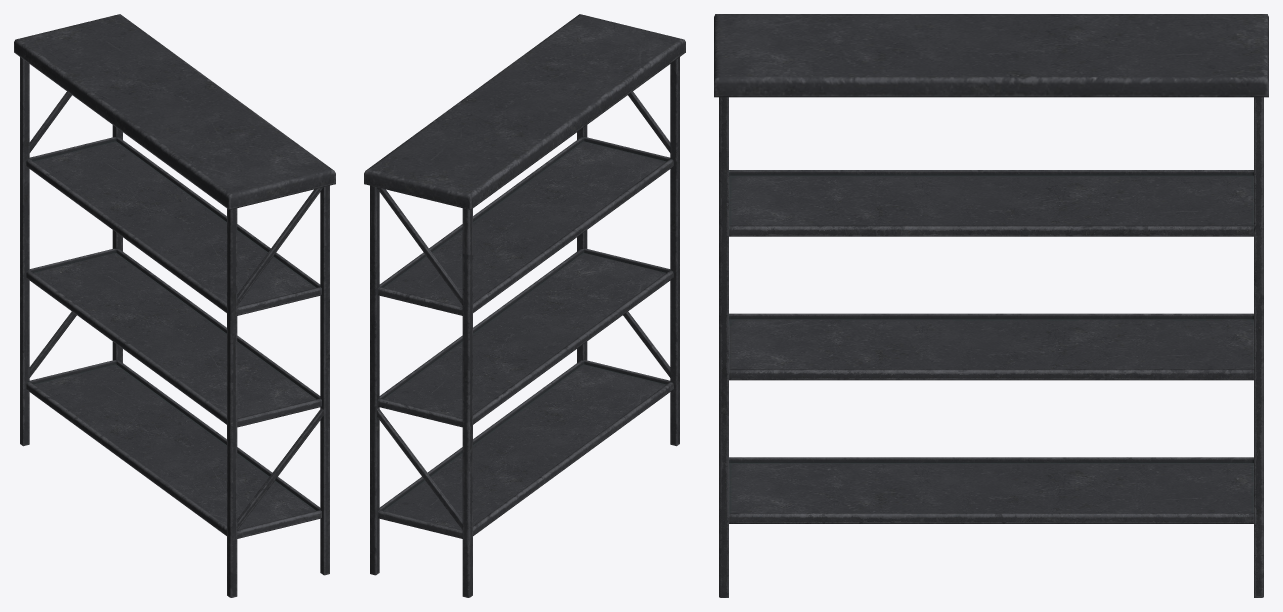
File: metalshopshelf.glb
The picture shows the model from 3 angles, left to right: view 1: azimuth 30°, elevation 25°; view 2: azimuth 150°, elevation 25°; view 3: azimuth 270°, elevation 25°; orthographic projection. The views are drawn at different scales.
Visible parts, largest first — view 1: SM_ShopShelf_02_76_LOD0; view 2: SM_ShopShelf_02_76_LOD0; view 3: SM_ShopShelf_02_76_LOD0.
Boxes of the visible parts, x1,y1,x2,y2 form: SM_ShopShelf_02_76_LOD0: [14, 14, 335, 597]; SM_ShopShelf_02_76_LOD0: [364, 14, 685, 597]; SM_ShopShelf_02_76_LOD0: [714, 14, 1268, 597].
Bounding box in the file's own units: 64 × 232 × 224.
1 material, 1 textured.
